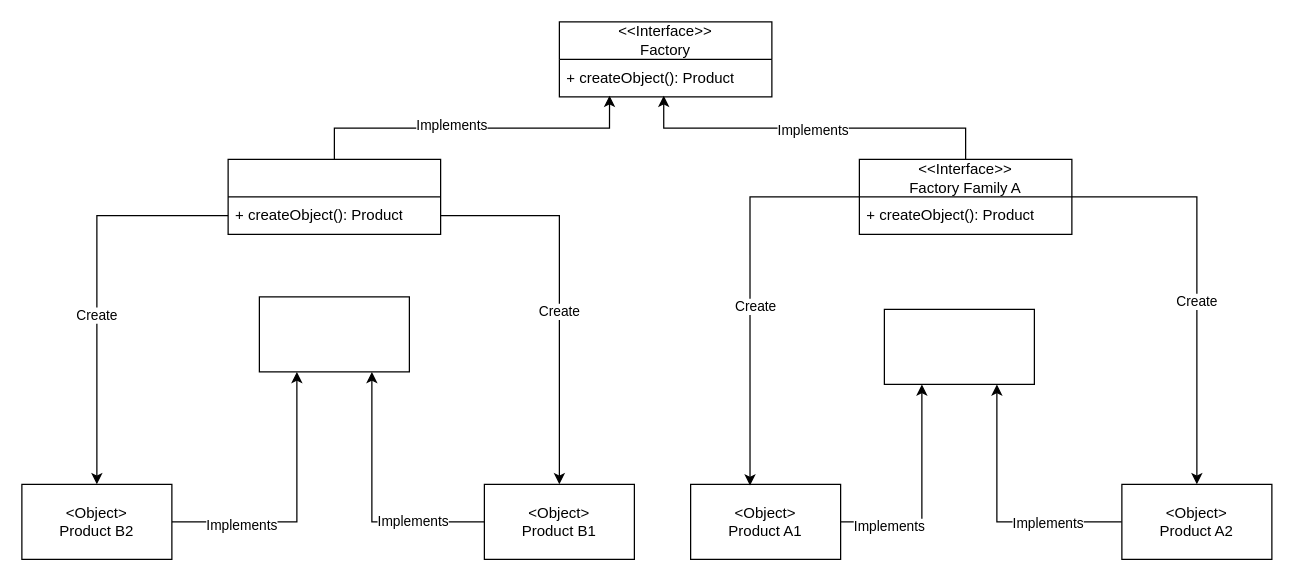
Some shapes in this 1294 by 581 pixel diagram are drawn without their labels. Here are the shapes that lost their labels. From the top down, the box of each, then its label:
(227, 158, 441, 234): <<Interface>> Factory Family B
(258, 296, 409, 372): <<Interface>> Product Family B
(883, 308, 1034, 384): <<Interface>> Product Family A
